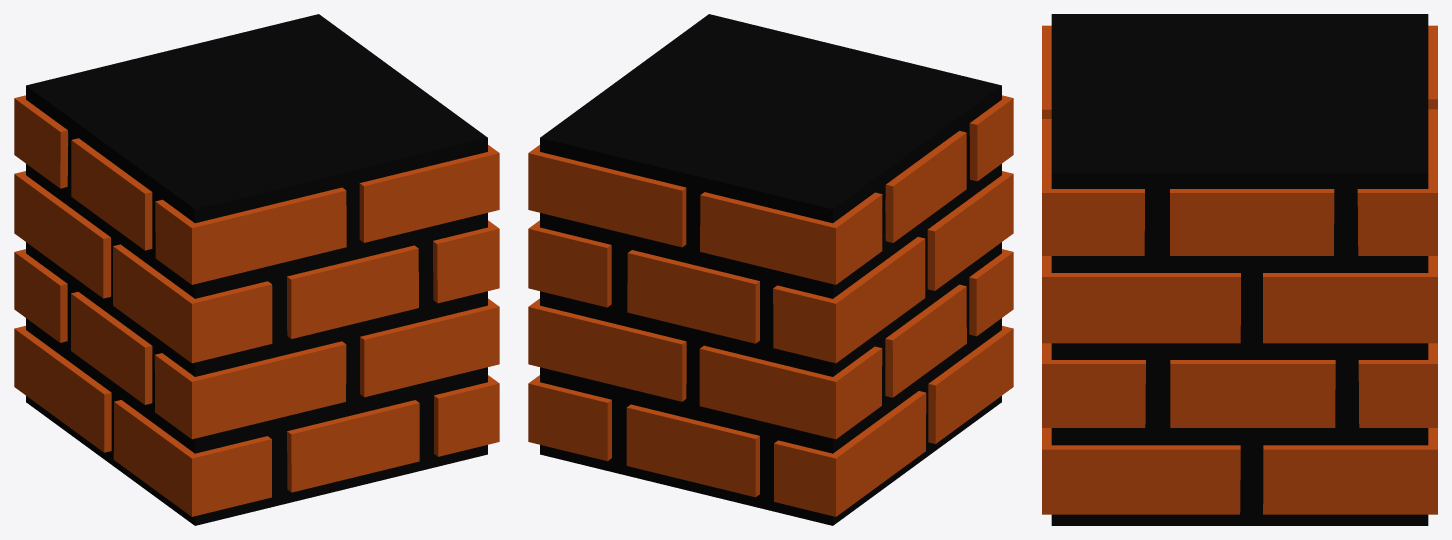
Rendered from block_brick.obj.
The picture shows the model from 3 angles, left to right: view 1: azimuth 30°, elevation 25°; view 2: azimuth 150°, elevation 25°; view 3: azimuth 270°, elevation 25°; orthographic projection. The views are drawn at different scales.
Visible parts, largest first — view 1: block_brick_old; view 2: block_brick_old; view 3: block_brick_old.
Boxes of the visible parts, box(x1,y1,x2,y2) form: block_brick_old: box(14, 14, 499, 525); block_brick_old: box(528, 14, 1013, 525); block_brick_old: box(1042, 14, 1437, 525).
Size of the model in its own units: 41.55 by 42.25 by 41.55.
